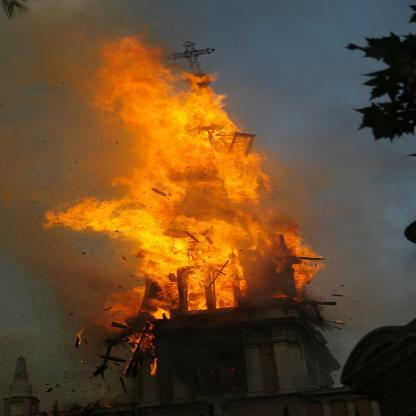fire: (53, 37, 322, 312)
